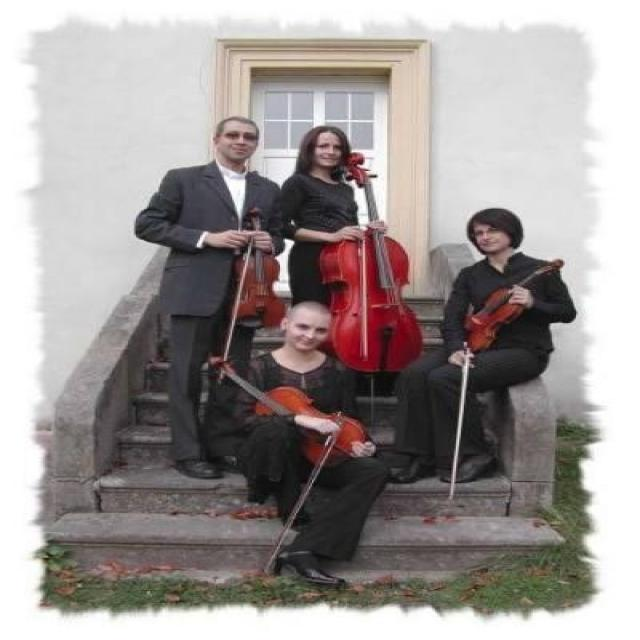cello: (318, 151, 431, 375)
violin: (207, 359, 372, 466), (454, 258, 564, 352), (228, 205, 292, 330)
